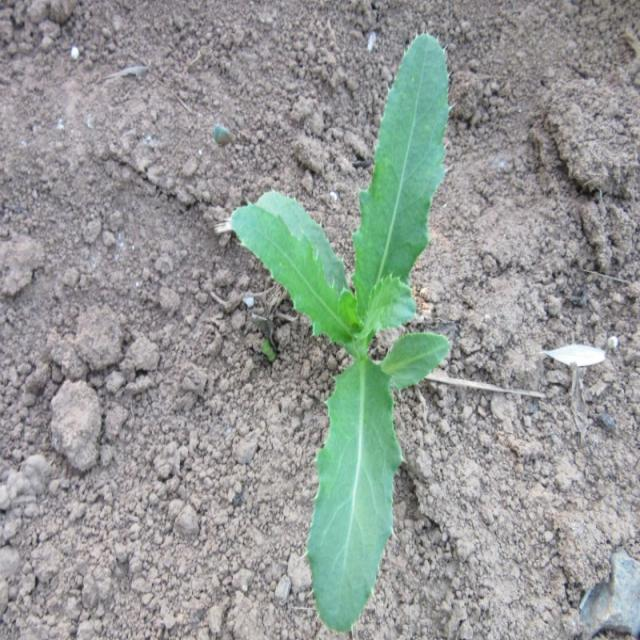cs: (226, 31, 452, 632)
